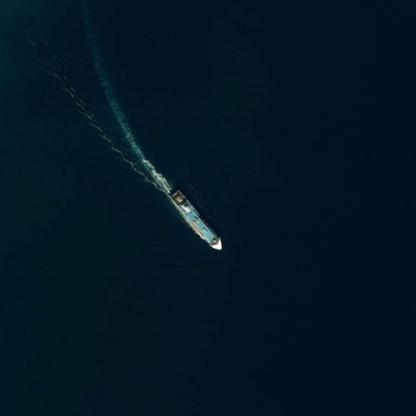ship: (1, 186, 58, 253)
